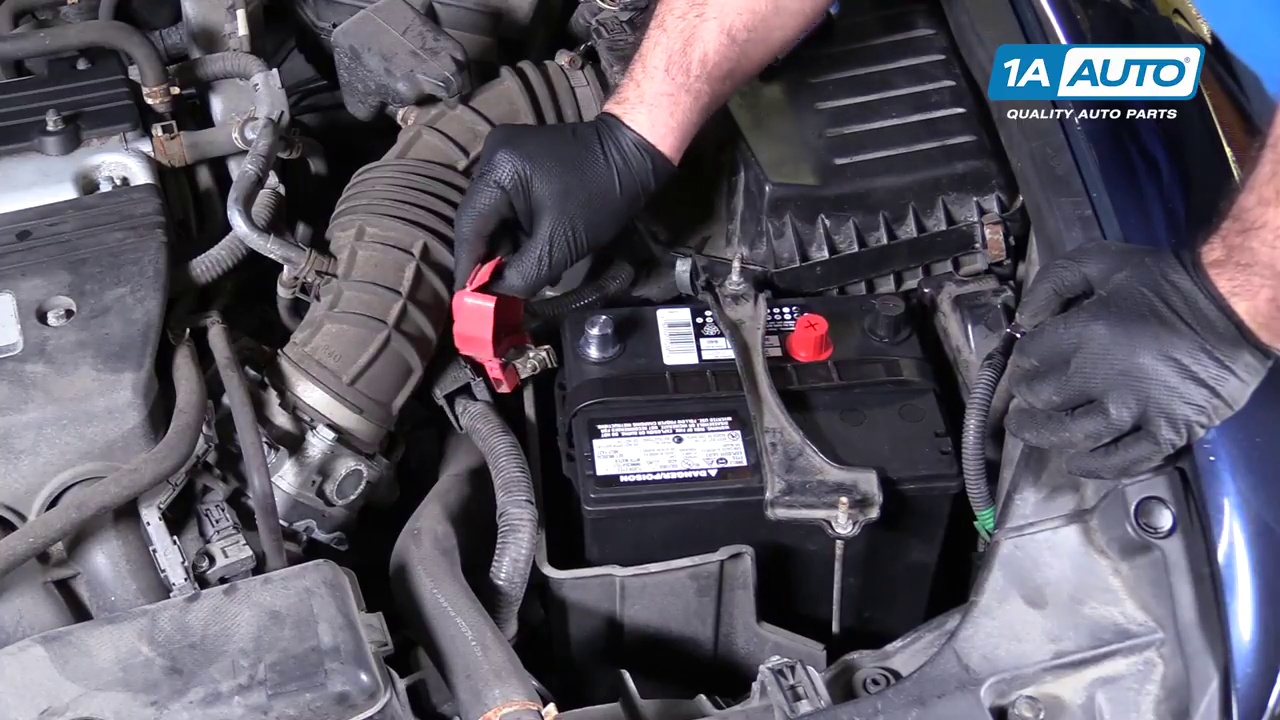battery: (561, 273, 959, 497)
pos_disconnected: (425, 232, 640, 404)
pos_touched: (439, 168, 636, 378)
